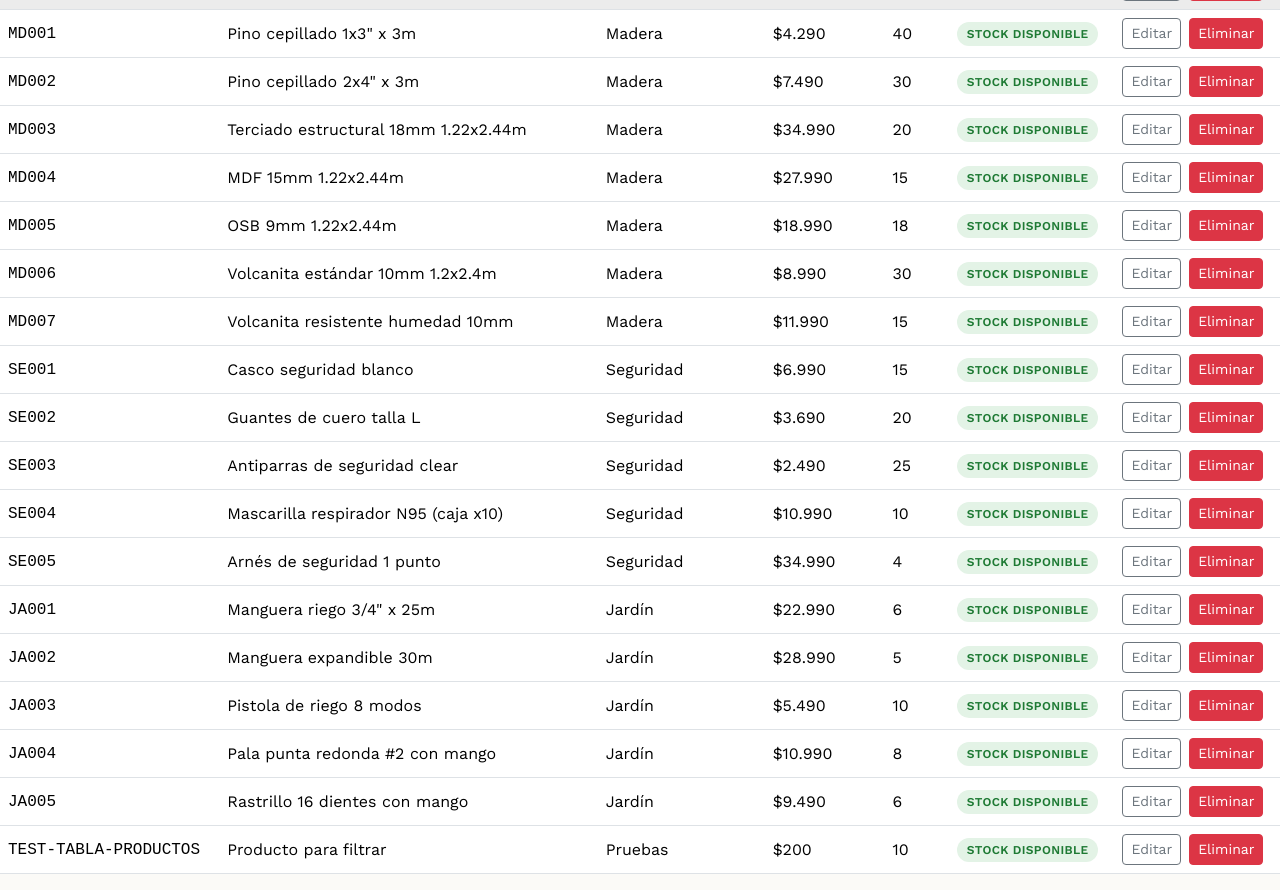
Test: <TablaProductosAdmin /> › elimina la fila luego de confirmar la acción
(page scrolled)
Click the button "Eliminar" in the row of "TEST-TABLA-PRODUCTOS": [1226, 850] box [1189, 834, 1264, 865]
(page scrolled)
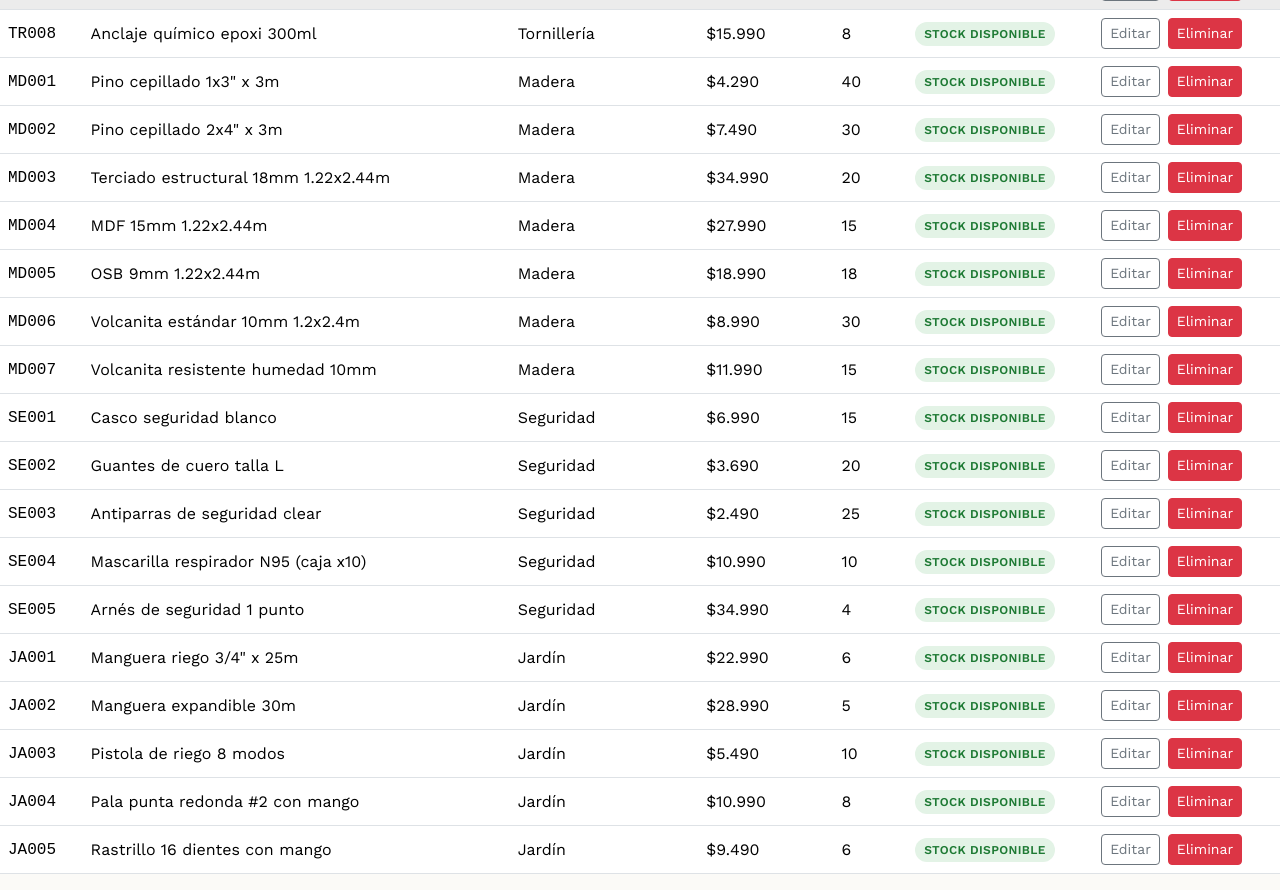
Check: the text "Producto para filtrar" is gone
